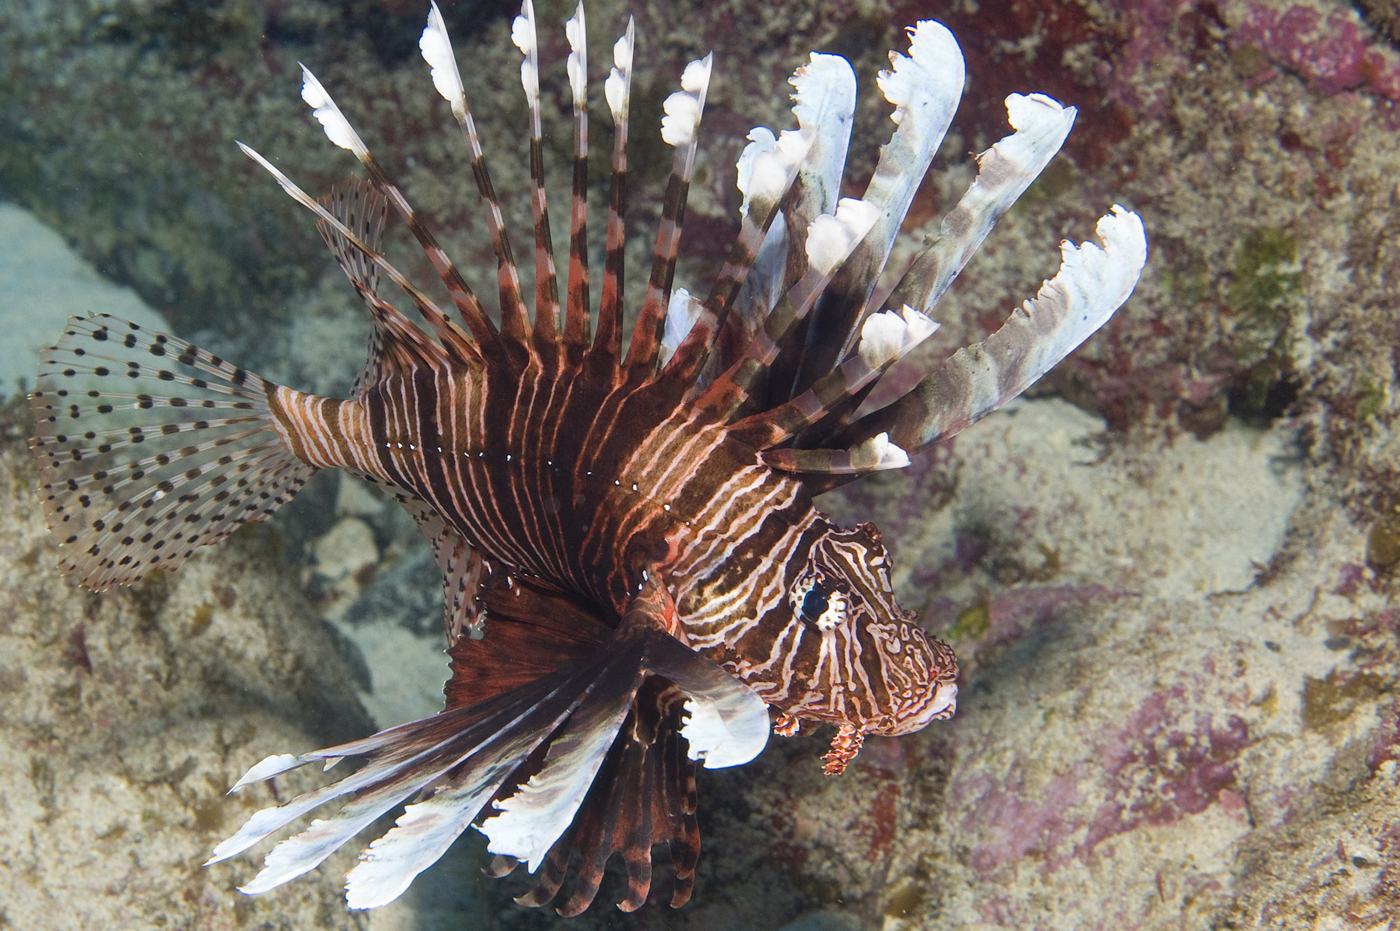Pterois_volitans: (29, 17, 1138, 916)
